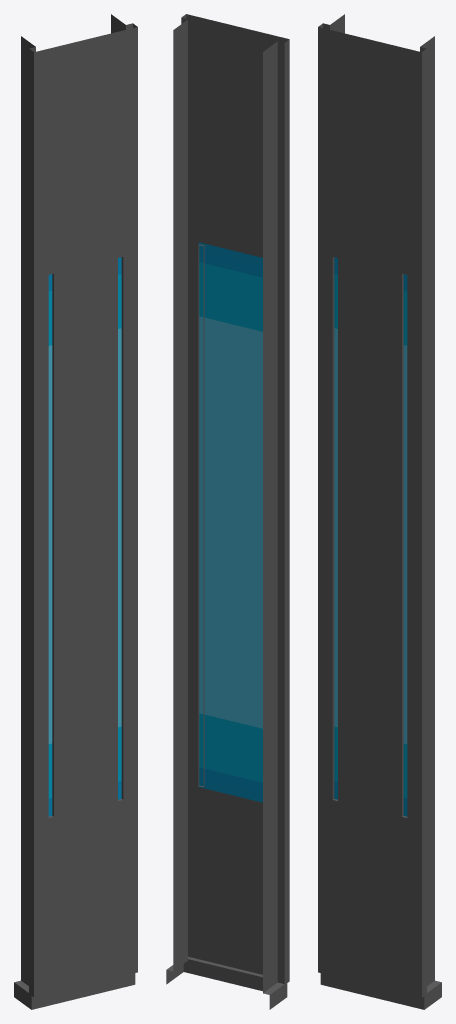
File: MMo_W_001_COL_h_1x10.fbx
3 views of the same model, side by side, from view 1: azimuth 30°, elevation 25°; view 2: azimuth 150°, elevation 25°; view 3: azimuth 330°, elevation 25° (orthographic).
Parts seen in each view (by area): view 1: MMo_W_001_COL_h_1x10; view 2: MMo_W_001_COL_h_1x10; view 3: MMo_W_001_COL_h_1x10.
Boxes of the visible parts, <box> form: MMo_W_001_COL_h_1x10: <box>14,14,137,1009</box>; MMo_W_001_COL_h_1x10: <box>166,14,289,1009</box>; MMo_W_001_COL_h_1x10: <box>318,14,441,1009</box>.
Size of the model in its own units: 1.2 by 10.6 by 0.4.
